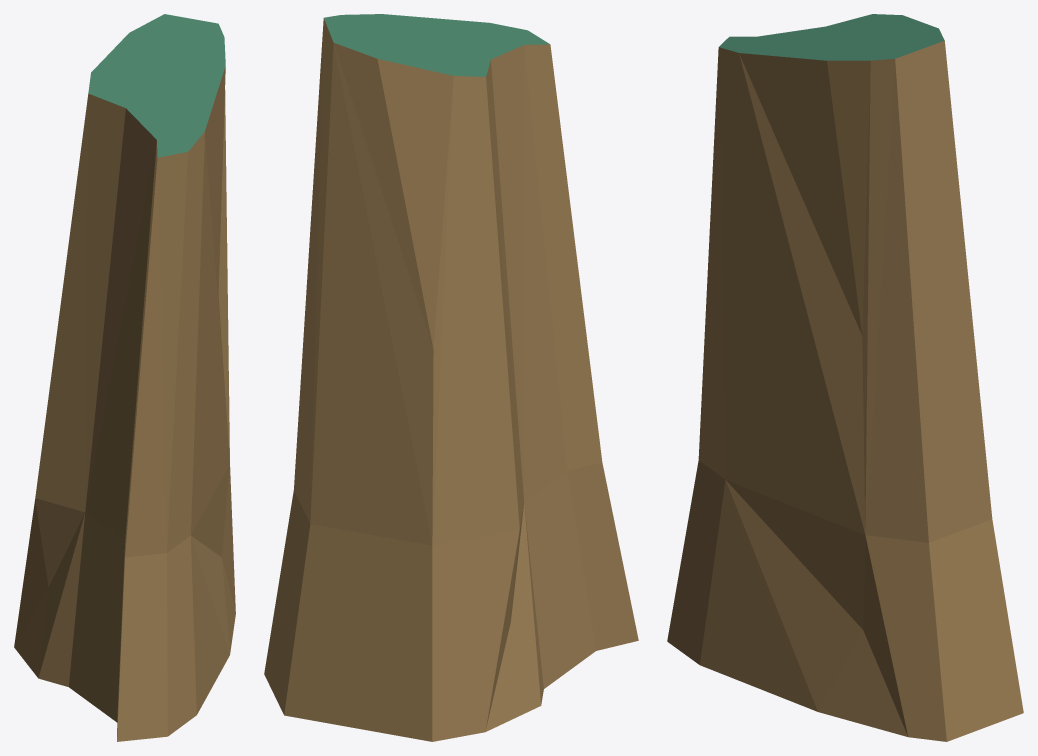
The model's file is Rock_Large_Mesa_Eroded_Moss_Grass_01.FBX.
3 renders of one model, left to right at view 1: azimuth 30°, elevation 25°; view 2: azimuth 150°, elevation 25°; view 3: azimuth 270°, elevation 25°, orthographic. The views are drawn at different scales.
Parts seen in each view (by area): view 1: Rock_Large_Mesa_Eroded_Moss_Grass_01; view 2: Rock_Large_Mesa_Eroded_Moss_Grass_01; view 3: Rock_Large_Mesa_Eroded_Moss_Grass_01.
Part boxes in pixels (x1=…): Rock_Large_Mesa_Eroded_Moss_Grass_01: x1=14, y1=14, x2=235, y2=741; Rock_Large_Mesa_Eroded_Moss_Grass_01: x1=264, y1=14, x2=638, y2=741; Rock_Large_Mesa_Eroded_Moss_Grass_01: x1=667, y1=14, x2=1023, y2=741.
Size of the model in its own units: 4180 by 10482 by 5081.
